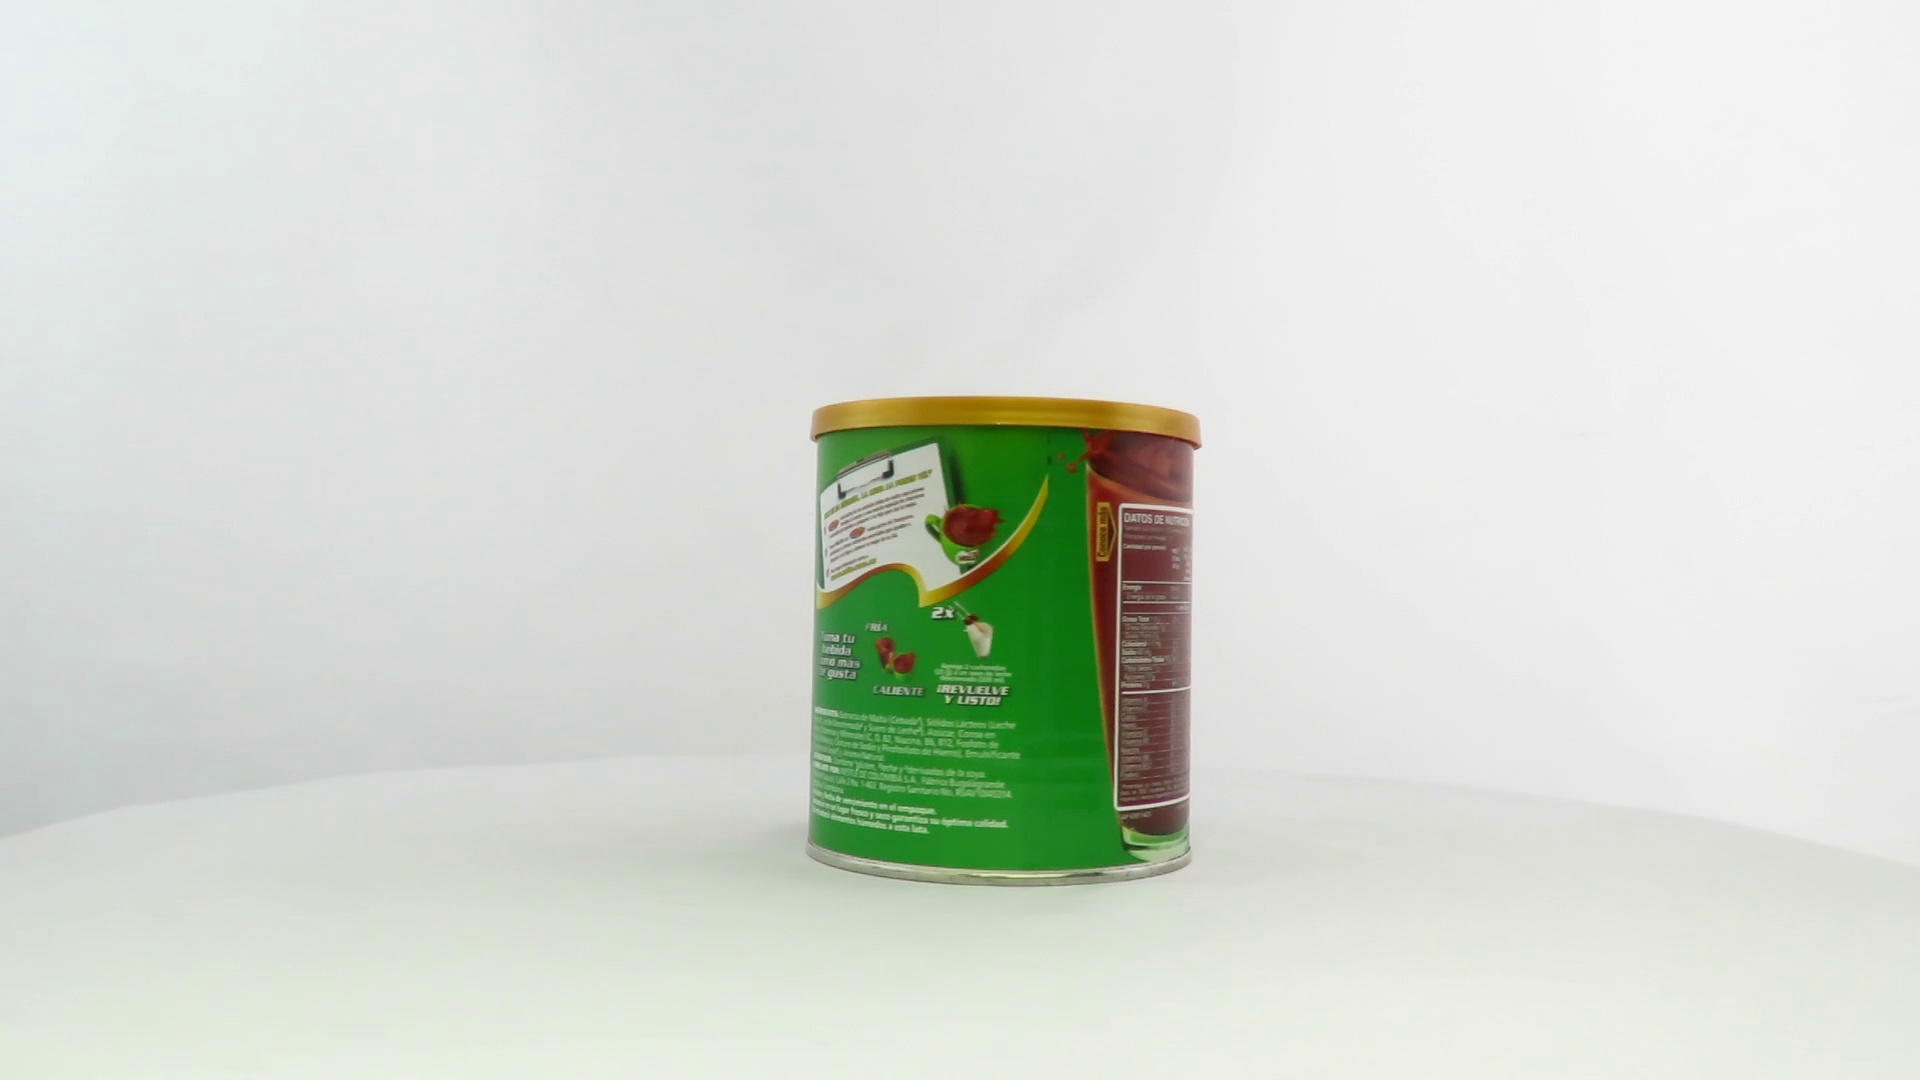COL0170203LAT40000: (800, 392, 1208, 893)
